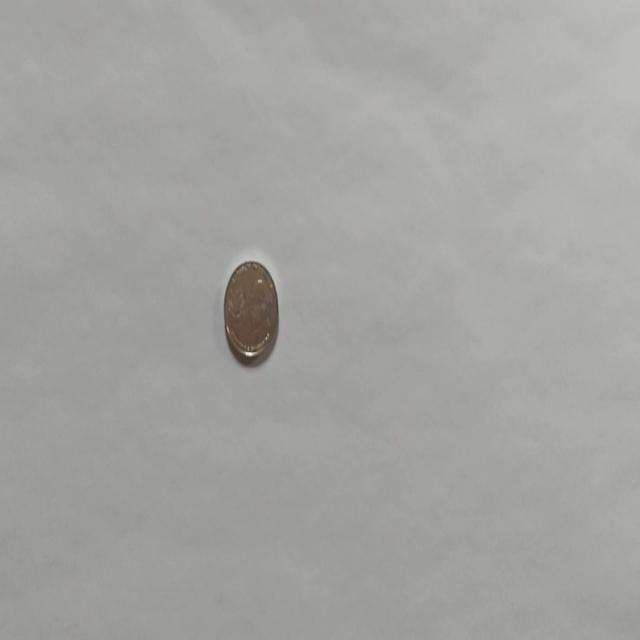lima ratus rupiah: (223, 258, 279, 364)
